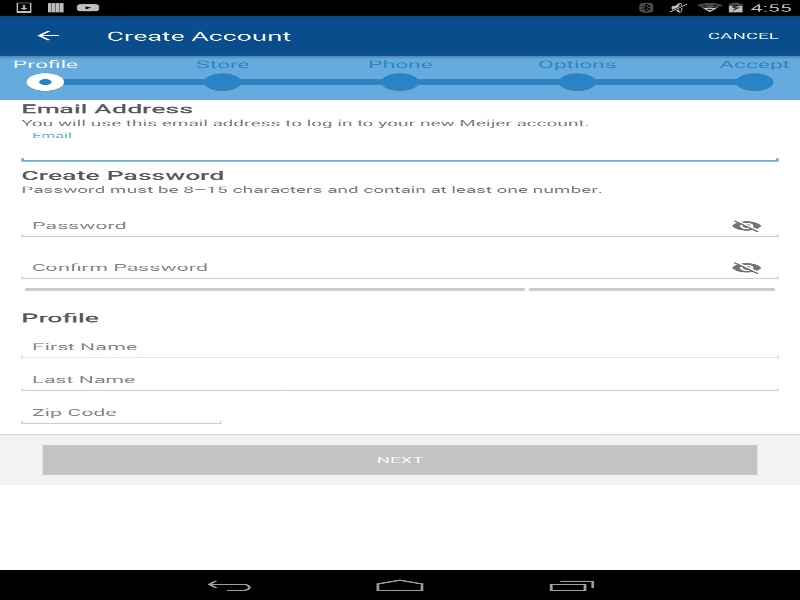Button: (42, 444, 757, 474), (10, 15, 85, 55), (714, 210, 778, 240), (714, 252, 778, 282)
Input: (21, 255, 778, 279), (21, 138, 778, 161), (21, 214, 778, 237), (21, 335, 778, 358), (21, 368, 778, 391), (21, 400, 221, 424)
